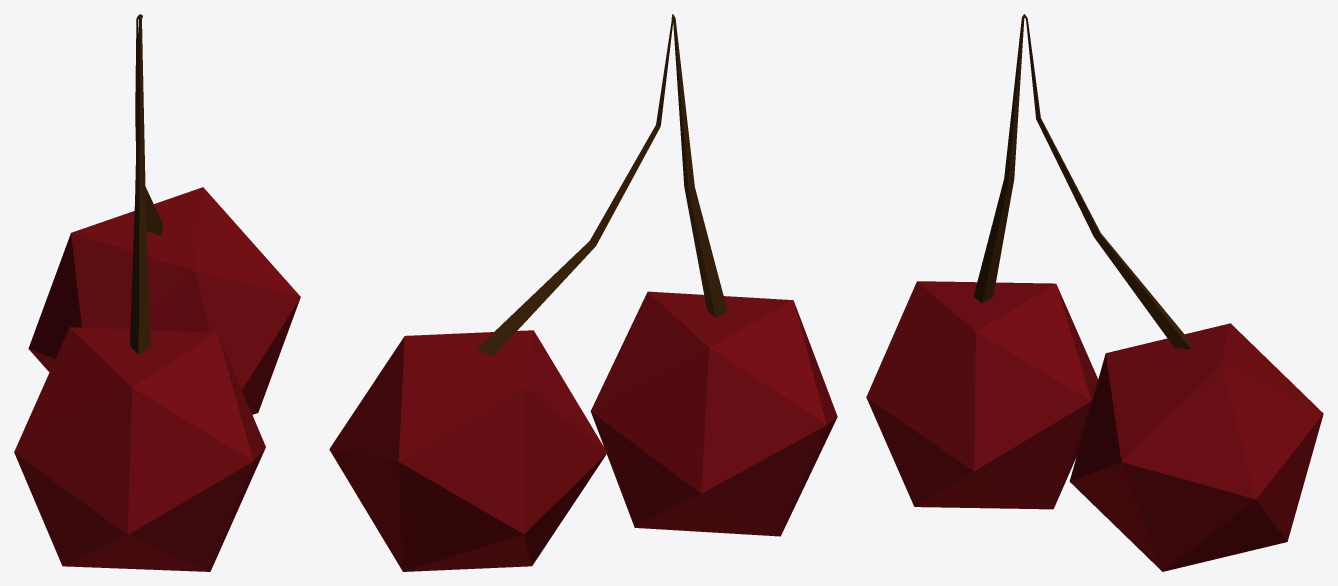
File: Cherry.fbx
3 views of the same model, side by side, from view 1: azimuth 30°, elevation 25°; view 2: azimuth 150°, elevation 25°; view 3: azimuth 270°, elevation 25° (orthographic). The views are drawn at different scales.
Parts seen in each view (by area): view 1: Cherry; view 2: Cherry; view 3: Cherry.
Part boxes in pixels (bbox=[...]): Cherry: bbox=[14, 14, 300, 571]; Cherry: bbox=[329, 14, 837, 571]; Cherry: bbox=[866, 14, 1323, 571].
Bounding box in the file's own units: 206 × 278 × 236.
